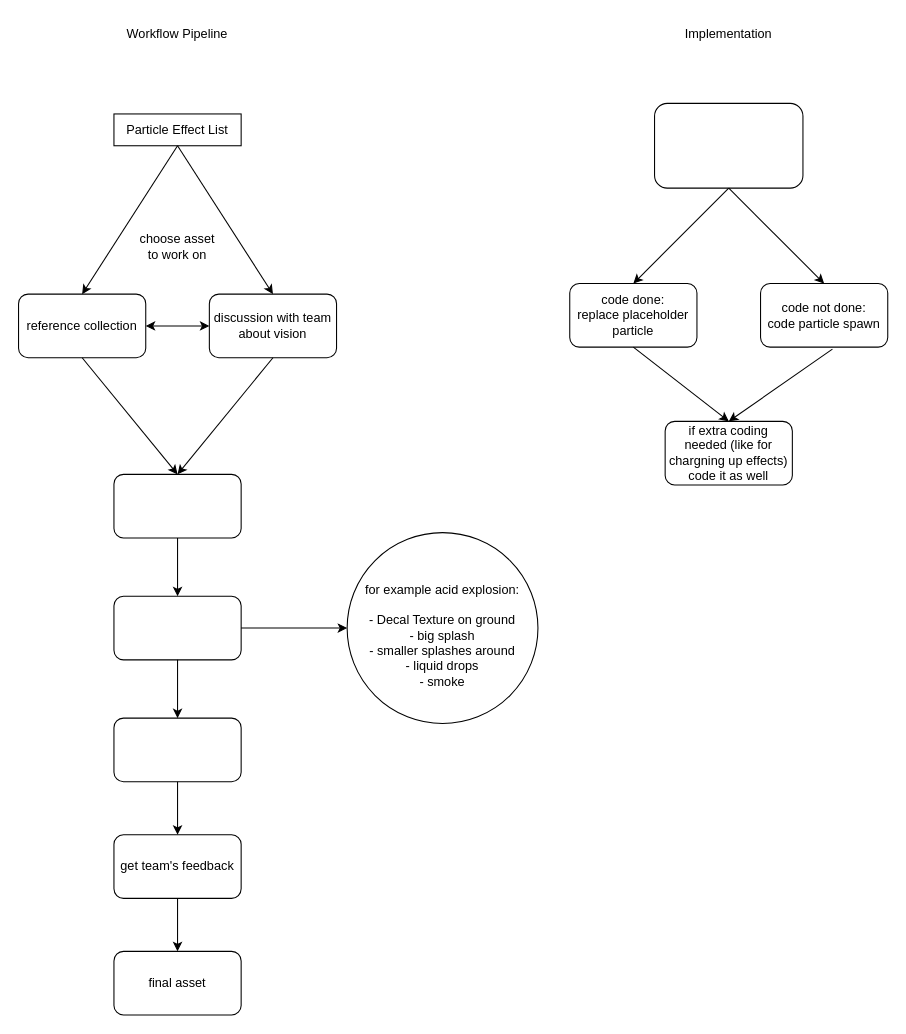
Some shapes in this 906 by 1034 pixel diagram are drawn without their labels. Each missing label, with the centre of its shape:
"break down particle effect into single emmiters" goes at (177,627).
"collect reference" goes at (177,505).
"first iteration" goes at (177,749).
"import to Engine (or not if already worked from there)" goes at (728,145).
